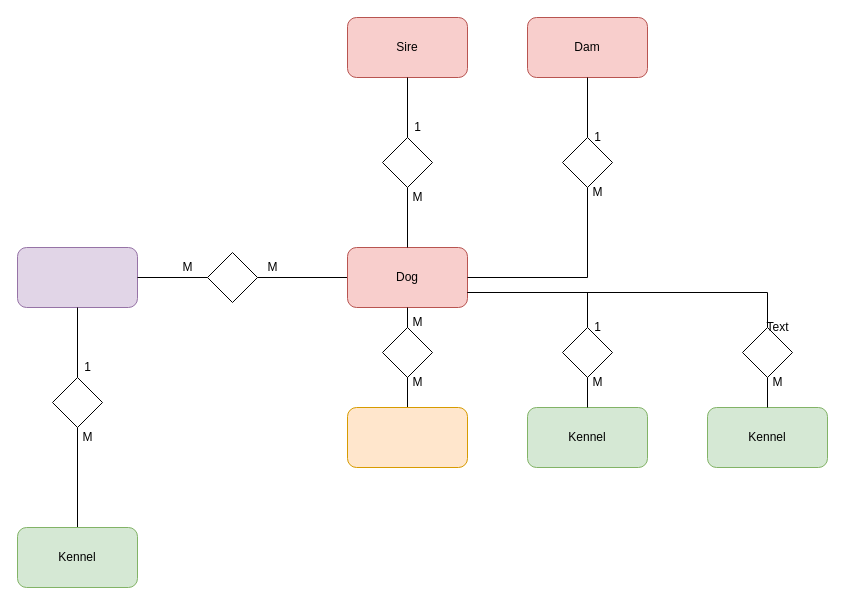
Some shapes in this 845 by 605 pixel diagram are drawn without their labels. The centre of each missing label's shape, as x and y in pixels:
"Person" goes at (x=77, y=277).
"Title" goes at (x=407, y=437).
